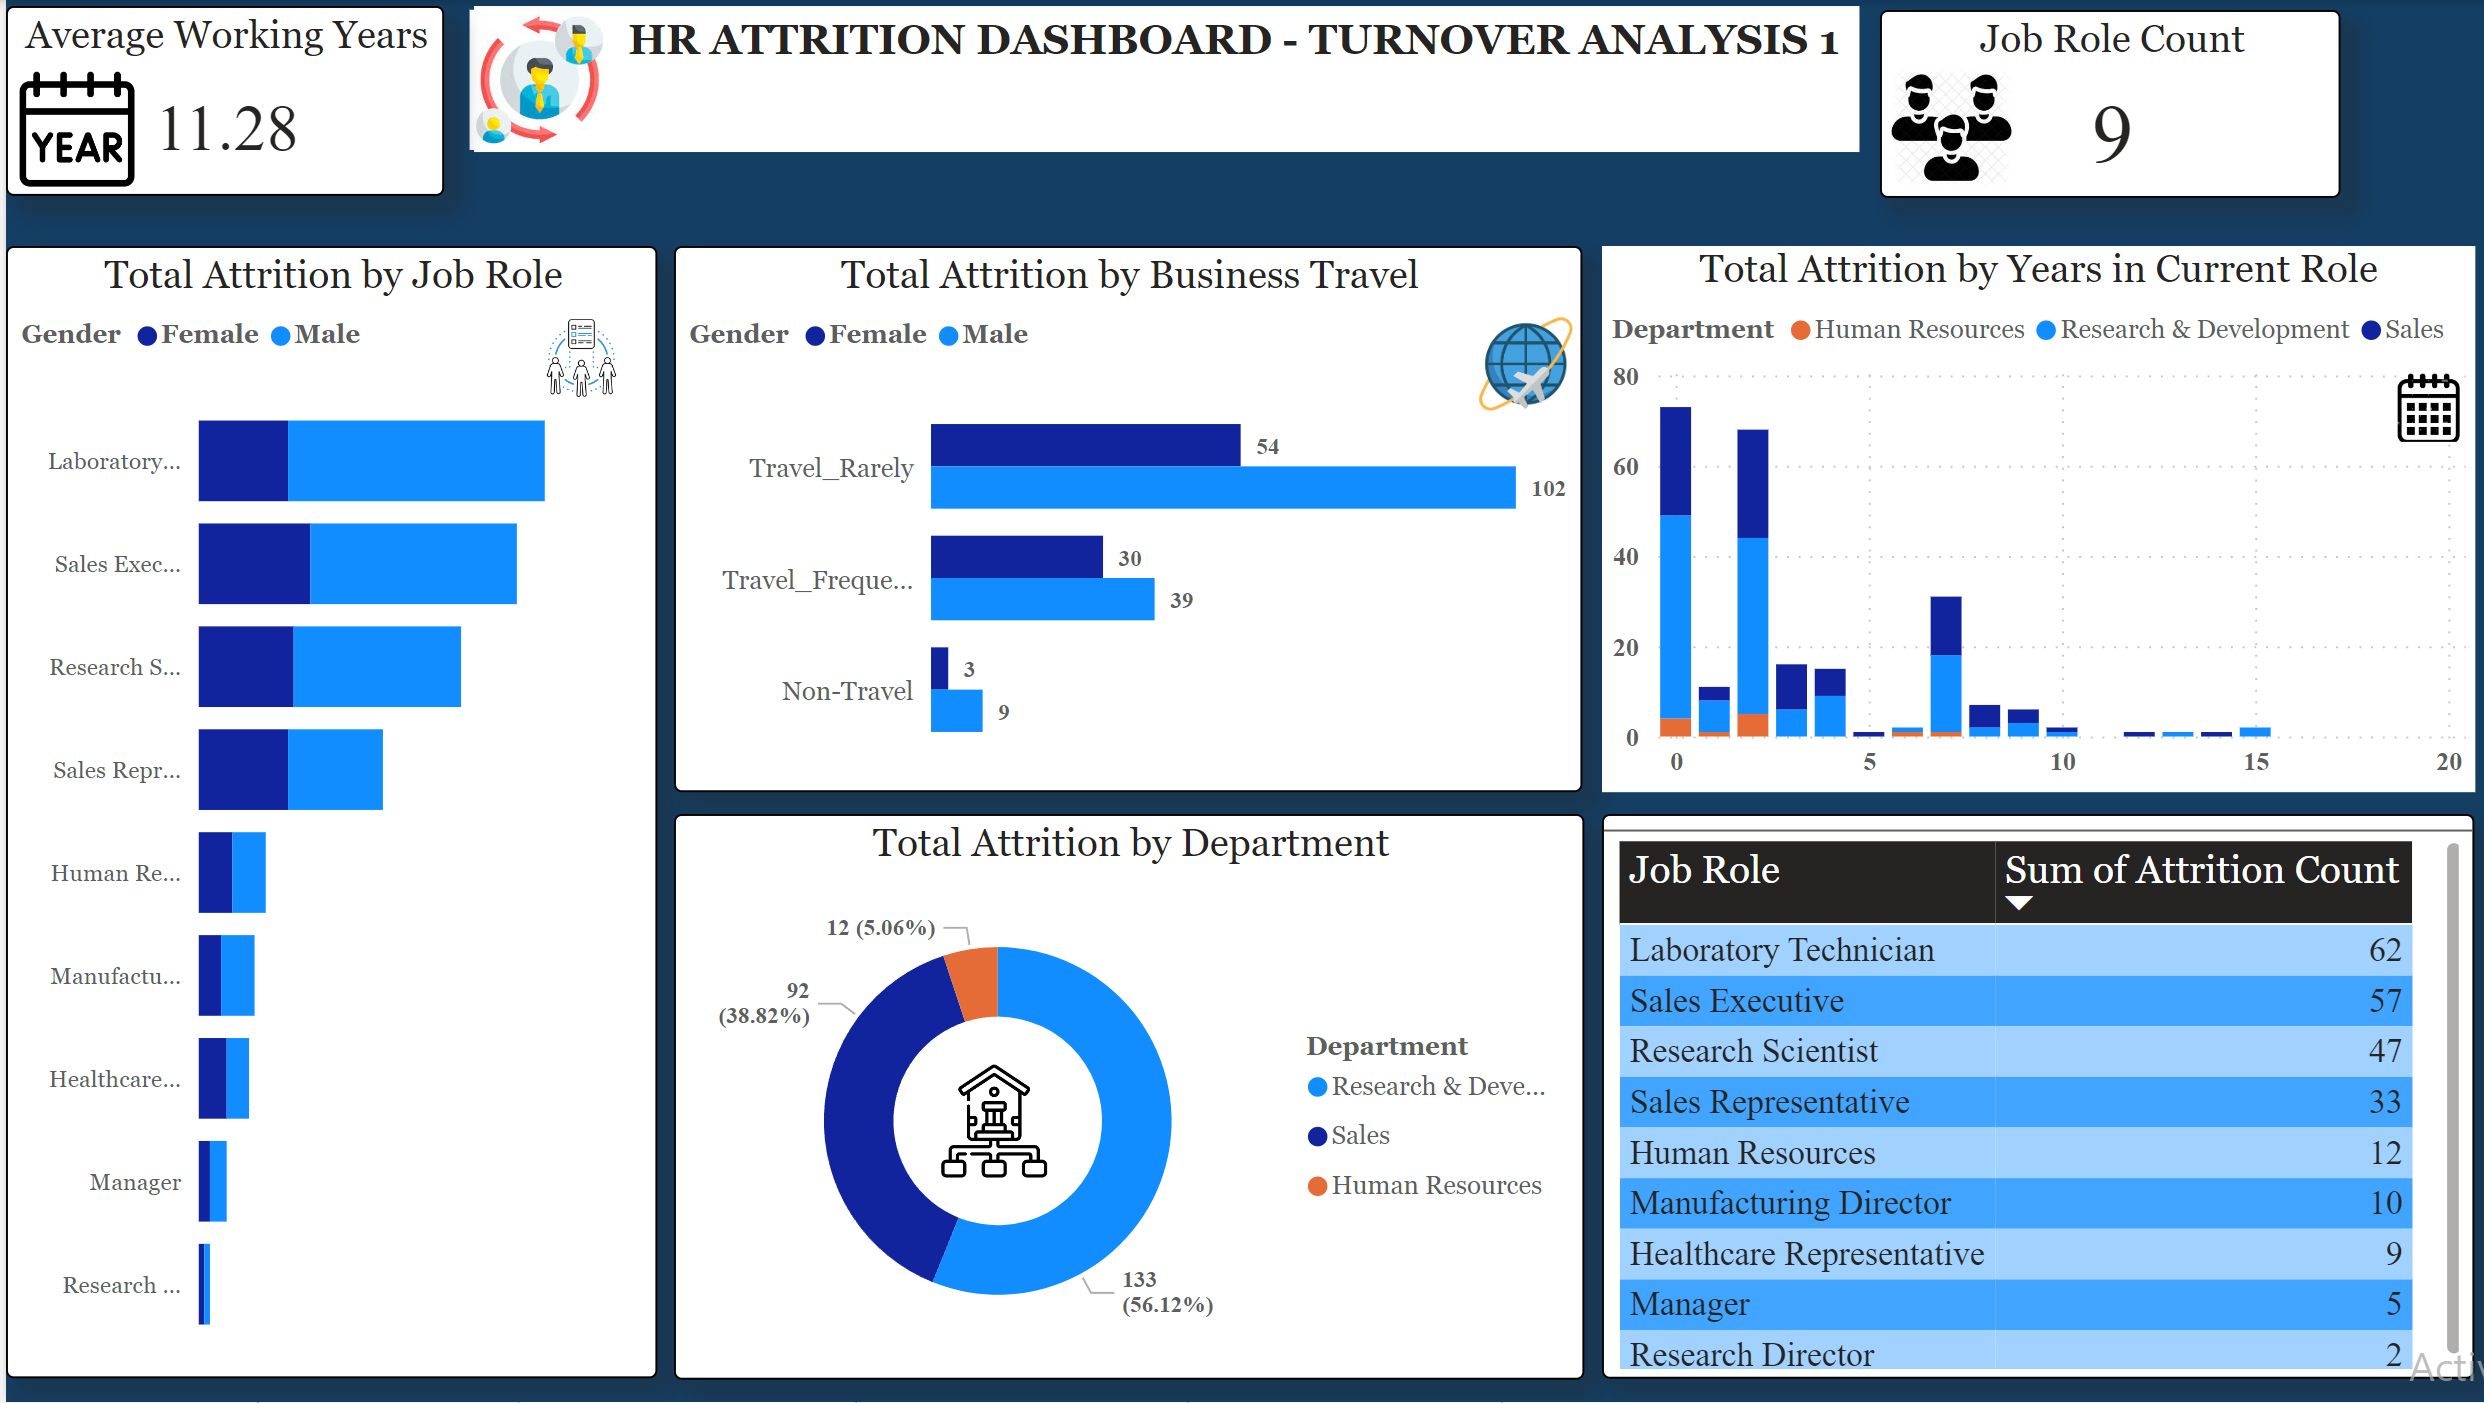

The page's visual inventory and layout, read from the dashboard file:
{"tool":"powerbi","page":{"name":"TURNOVER ANALYSIS 1","canvas":[1280,720],"ordinal":1},"visuals":[{"type":"textbox","box":[240.3,3.6,711.4,74.9],"z":0},{"type":"image","box":[229.6,0,88,82.1],"z":1000},{"type":"card","title":"Average Working Years","fields":{"Values":["Avg(HR-Employee-Attrition.Total Working Years)"]},"box":[0,3.6,224.8,97.5],"z":2000},{"type":"image","box":[0,32.1,72.6,69],"z":3000},{"type":"card","title":"Job Role Count","fields":{"Values":["Count(HR-Employee-Attrition.Job Role)"]},"box":[962.4,4.8,236.7,96.4],"z":4000},{"type":"image","box":[962.4,29.7,73.8,71.4],"z":5000},{"type":"barChart","title":"Total Attrition by Job Role","fields":{"Category":["HR-Employee-Attrition.Job Role"],"Y":["Sum(HR-Employee-Attrition.Attraction Count)"],"Series":["HR-Employee-Attrition.Gender"]},"box":[0,126.1,334.3,581.7],"z":6000},{"type":"clusteredBarChart","title":"Total Attrition by Business Travel","fields":{"Category":["HR-Employee-Attrition.Business Travel"],"Y":["Sum(HR-Employee-Attrition.Attraction Count)"],"Series":["HR-Employee-Attrition.Gender"]},"box":[342.6,126.1,466.3,280.7],"z":7000},{"type":"donutChart","title":"Total Attrition by Department","fields":{"Category":["HR-Employee-Attrition.Department"],"Y":["Sum(HR-Employee-Attrition.Attraction Count)"]},"box":[342.6,417.5,467.5,290.3],"z":8000},{"type":"columnChart","title":"Total Attrition by Years in Current Role","fields":{"Category":["HR-Employee-Attrition.Years In Current Role"],"Y":["Sum(HR-Employee-Attrition.Attraction Count)"],"Series":["HR-Employee-Attrition.Department"]},"box":[819.6,126.1,448.5,280.7],"z":9000},{"type":"tableEx","fields":{"Values":["HR-Employee-Attrition.Job Role","Sum(HR-Employee-Attrition.Attraction Count)"]},"box":[820,418,448,290],"z":10000},{"type":"image","box":[257,148.7,77.3,67.8],"z":11000},{"type":"image","box":[748.3,157,63,59.5],"z":12000},{"type":"image","box":[1220.5,186.8,47.6,45.2],"z":13000},{"type":"image","box":[473.5,538.9,67.8,72.6],"z":14000}]}

Visuals, with their boxes in screenshot pixels (x1, y1, x2, y2), scaled from the page's 1280x720 canvas onto the 2484x1403 screenshot:
textbox: Rect(466, 7, 1847, 153)
image: Rect(446, 0, 616, 160)
"Average Working Years" card: Rect(0, 7, 436, 197)
image: Rect(0, 63, 141, 197)
"Job Role Count" card: Rect(1868, 9, 2327, 197)
image: Rect(1868, 58, 2011, 197)
"Total Attrition by Job Role" barChart: Rect(0, 246, 649, 1379)
"Total Attrition by Business Travel" clusteredBarChart: Rect(665, 246, 1570, 793)
"Total Attrition by Department" donutChart: Rect(665, 814, 1572, 1379)
"Total Attrition by Years in Current Role" columnChart: Rect(1591, 246, 2461, 793)
tableEx - HR-Employee-Attrition.Job Role x Sum(HR-Employee-Attrition.Attraction Count): Rect(1591, 815, 2461, 1380)
image: Rect(499, 290, 649, 422)
image: Rect(1452, 306, 1574, 422)
image: Rect(2369, 364, 2461, 452)
image: Rect(919, 1050, 1050, 1192)
